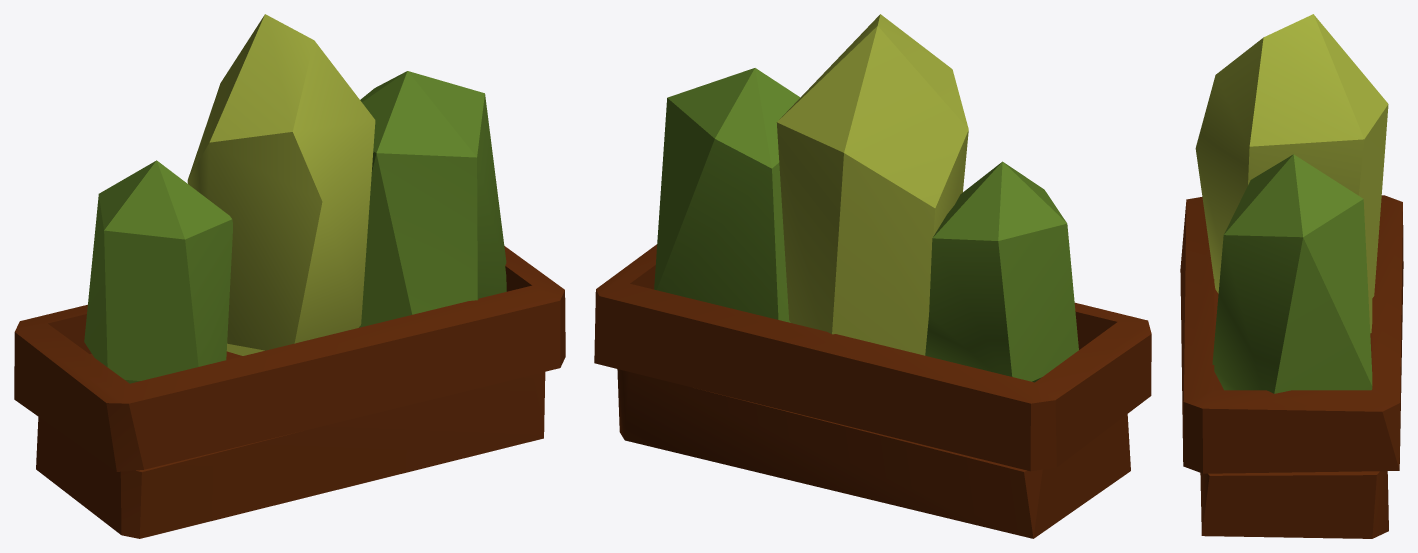
File: Shrub 4.fbx
3 renders of one model, left to right at view 1: azimuth 30°, elevation 25°; view 2: azimuth 150°, elevation 25°; view 3: azimuth 270°, elevation 25°, orthographic. The views are drawn at different scales.
Parts seen in each view (by area): view 1: Shrub_04; view 2: Shrub_04; view 3: Shrub_04.
Part boxes in pixels (box(x1,y1,x2,y2)): Shrub_04: box(14, 14, 565, 538); Shrub_04: box(594, 14, 1151, 538); Shrub_04: box(1180, 14, 1403, 538).
Size of the model in its own units: 107 by 97.18 by 46.85.
